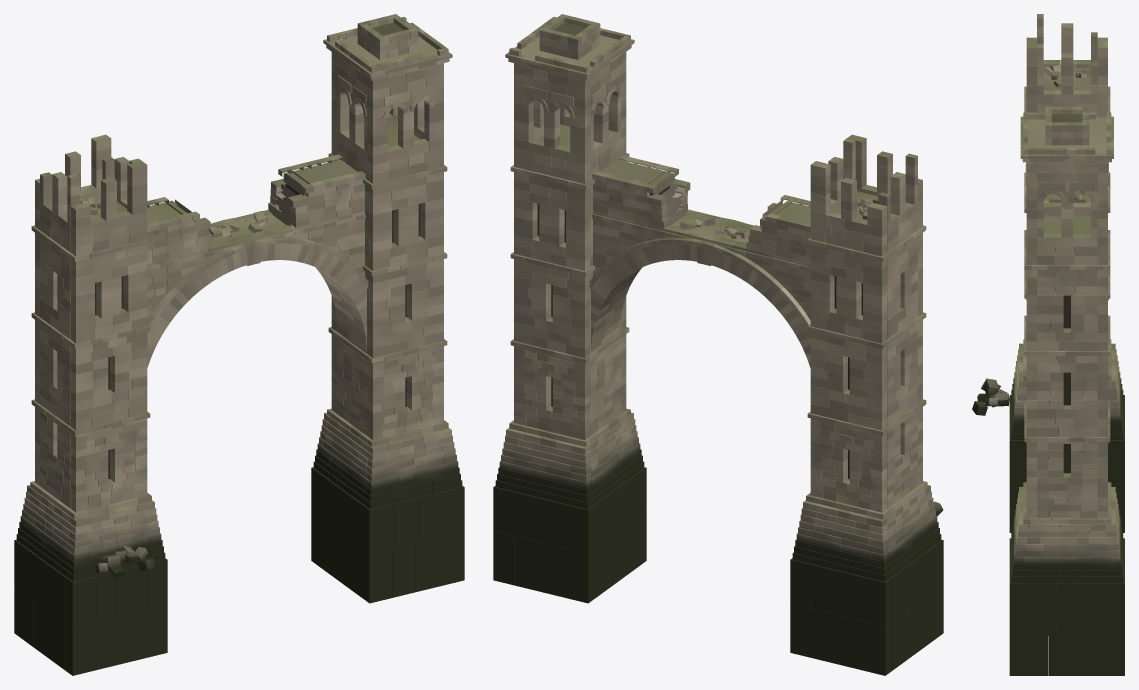
File: harbour_gate_mid.glb
3 views of the same model, side by side, from view 1: azimuth 30°, elevation 25°; view 2: azimuth 150°, elevation 25°; view 3: azimuth 270°, elevation 25° (orthographic).
Visible parts, largest first — view 1: harbour_gate_mid; view 2: harbour_gate_mid; view 3: harbour_gate_mid.
Boxes of the visible parts, box(x1,y1,x2,y2) form: harbour_gate_mid: box(14, 14, 464, 675); harbour_gate_mid: box(493, 14, 943, 675); harbour_gate_mid: box(972, 14, 1124, 675).
Bounding box in the file's own units: 132 × 175 × 45.13.
